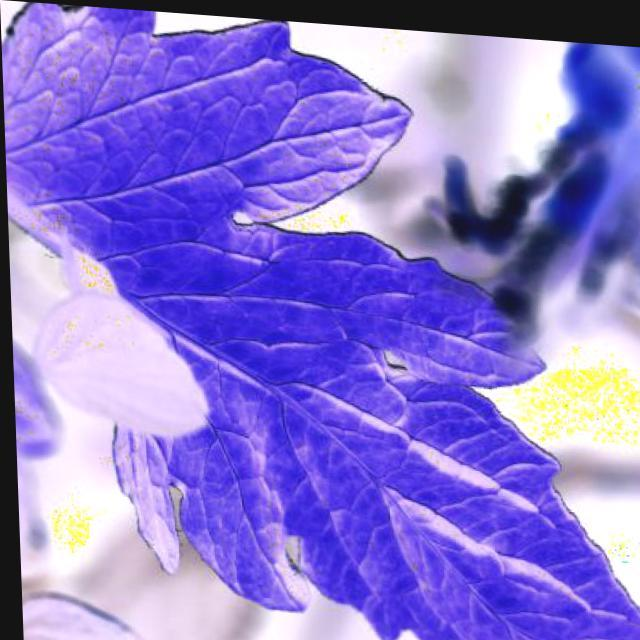Tomato bacterial spot leaf: (3, 0, 639, 639)
